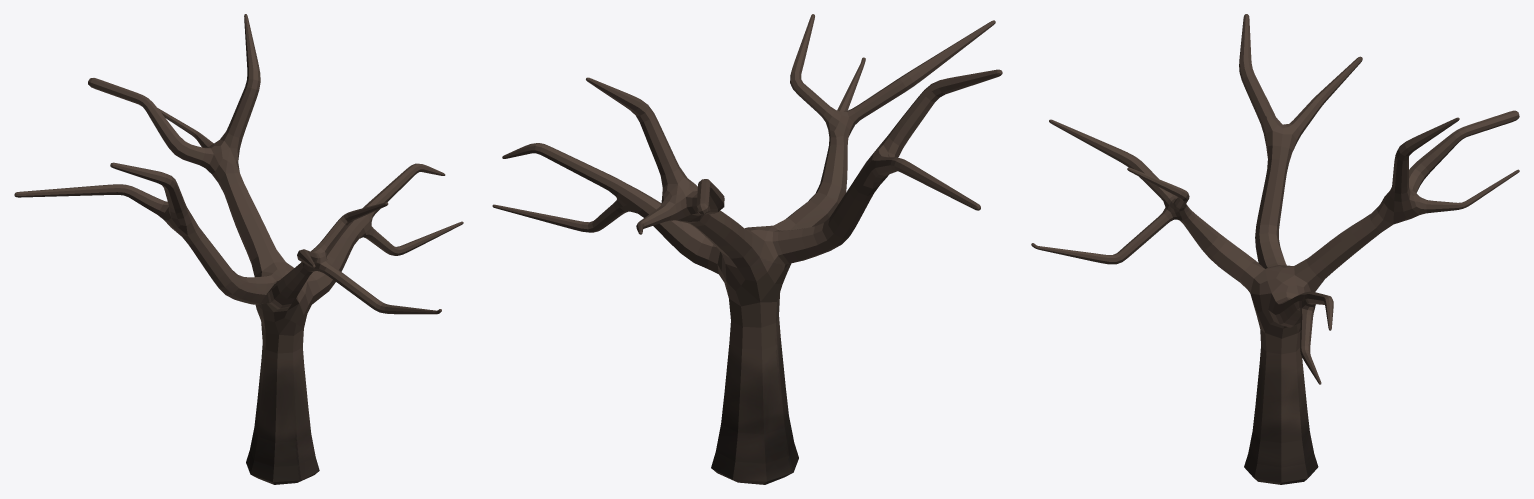
The model's file is foretMort2.fbx.
The picture shows the model from 3 angles, left to right: view 1: azimuth 30°, elevation 25°; view 2: azimuth 150°, elevation 25°; view 3: azimuth 270°, elevation 25°; orthographic projection. The views are drawn at different scales.
Parts seen in each view (by area): view 1: Plane.006; view 2: Plane.006; view 3: Plane.006.
Part boxes in pixels (x1=…): Plane.006: x1=14, y1=14, x2=463, y2=484; Plane.006: x1=492, y1=14, x2=1002, y2=484; Plane.006: x1=1031, y1=14, x2=1519, y2=484.
Size of the model in its own units: 2.59 by 2.2 by 2.55.
Materials: 1 (1 with a texture image).
